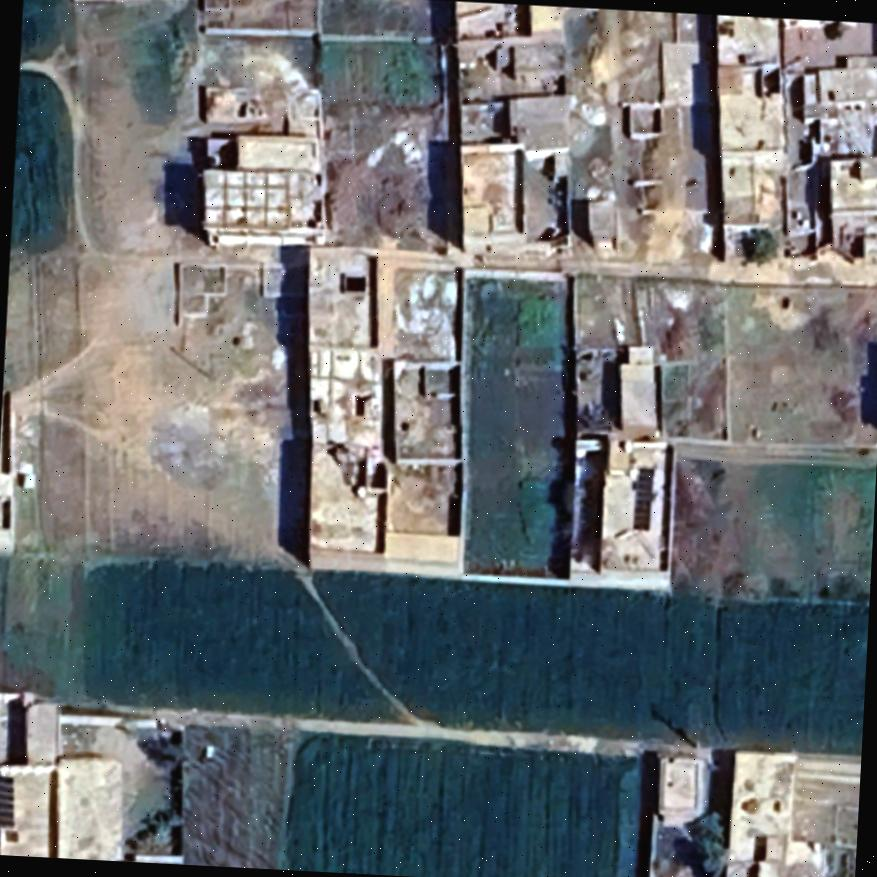Solarpanel: (625, 459, 659, 534)
